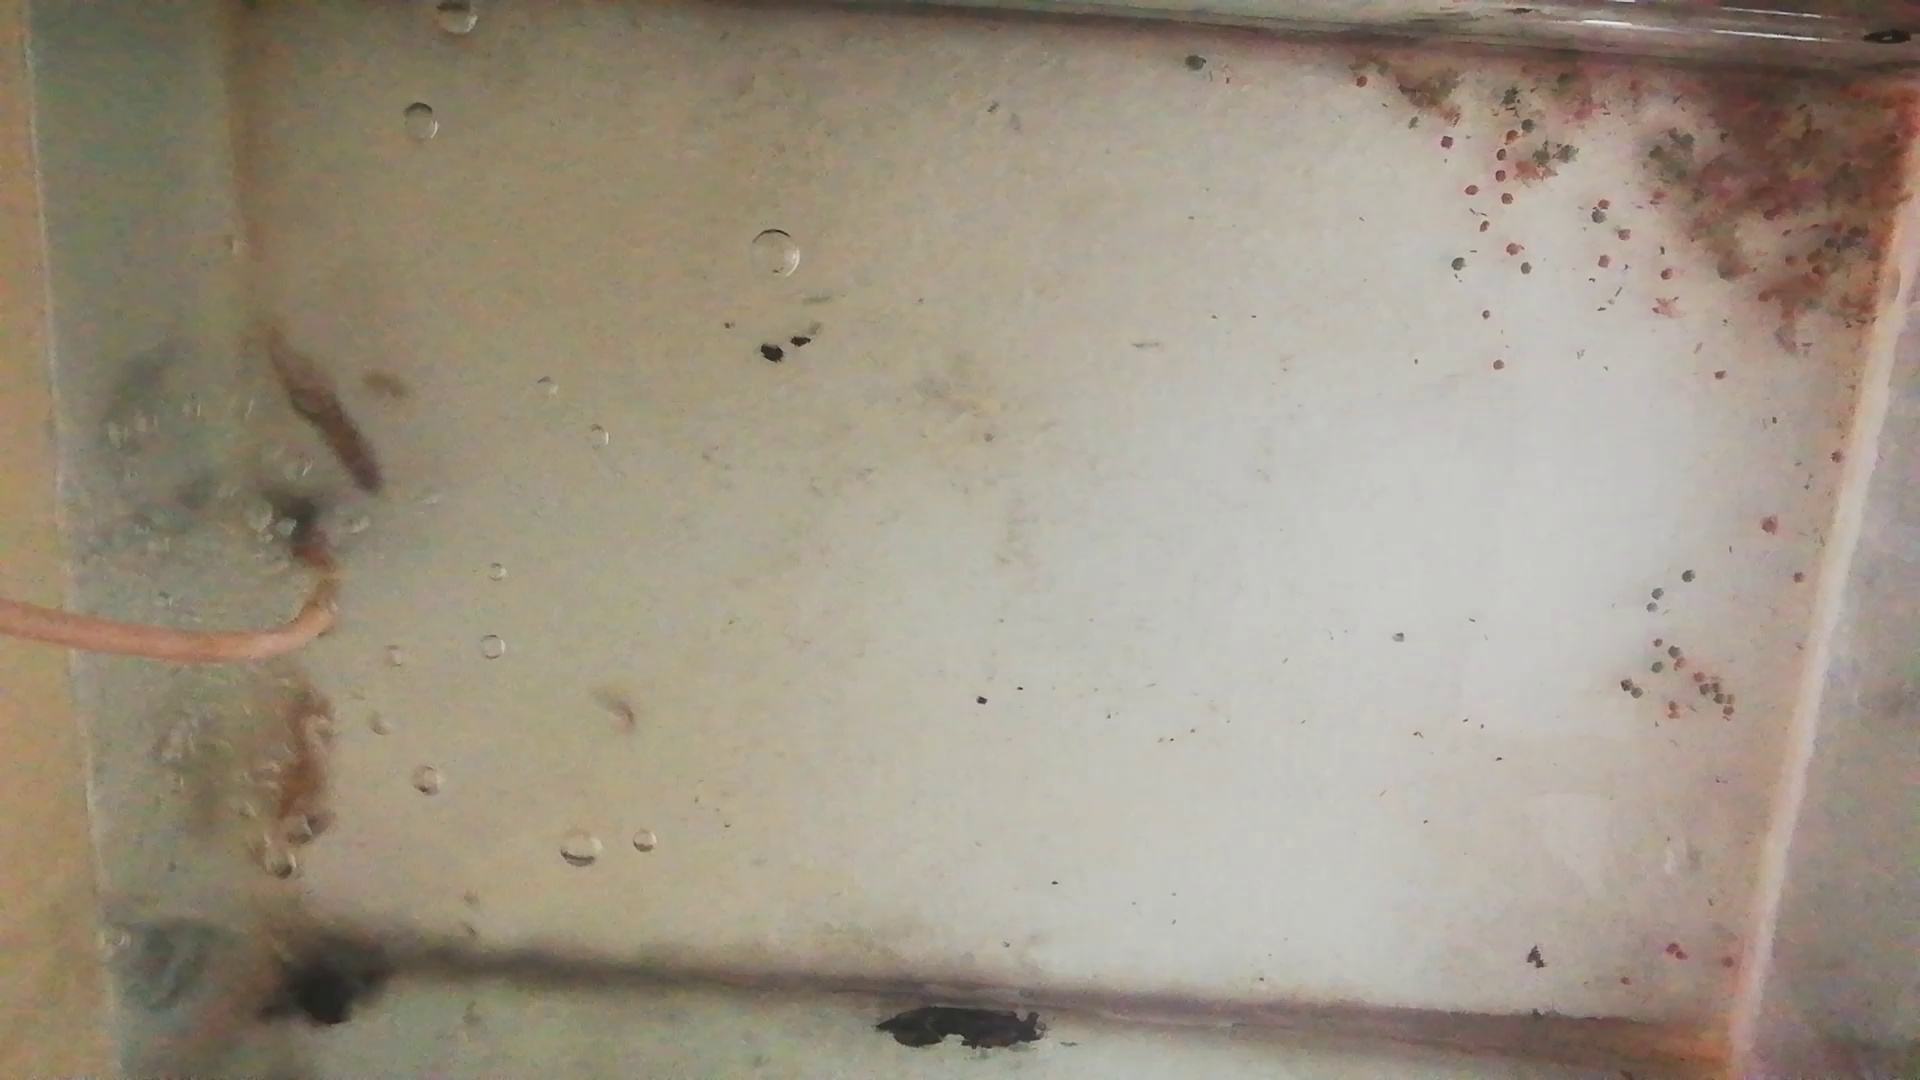fish: (261, 334, 389, 502), (272, 682, 339, 851)
